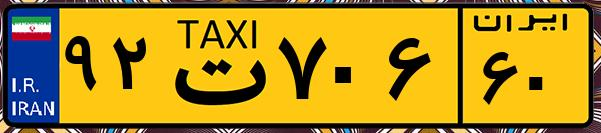0: (330, 28, 385, 110), (525, 38, 570, 115)
2: (110, 28, 158, 98)
6: (385, 28, 445, 110), (475, 38, 525, 113)
7: (270, 28, 330, 110)
9: (57, 26, 110, 100)
ت: (158, 12, 270, 120)
